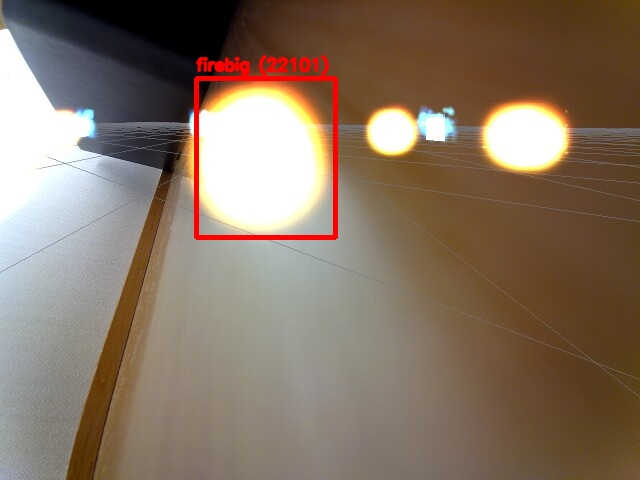firebig: (196, 78, 335, 237)
